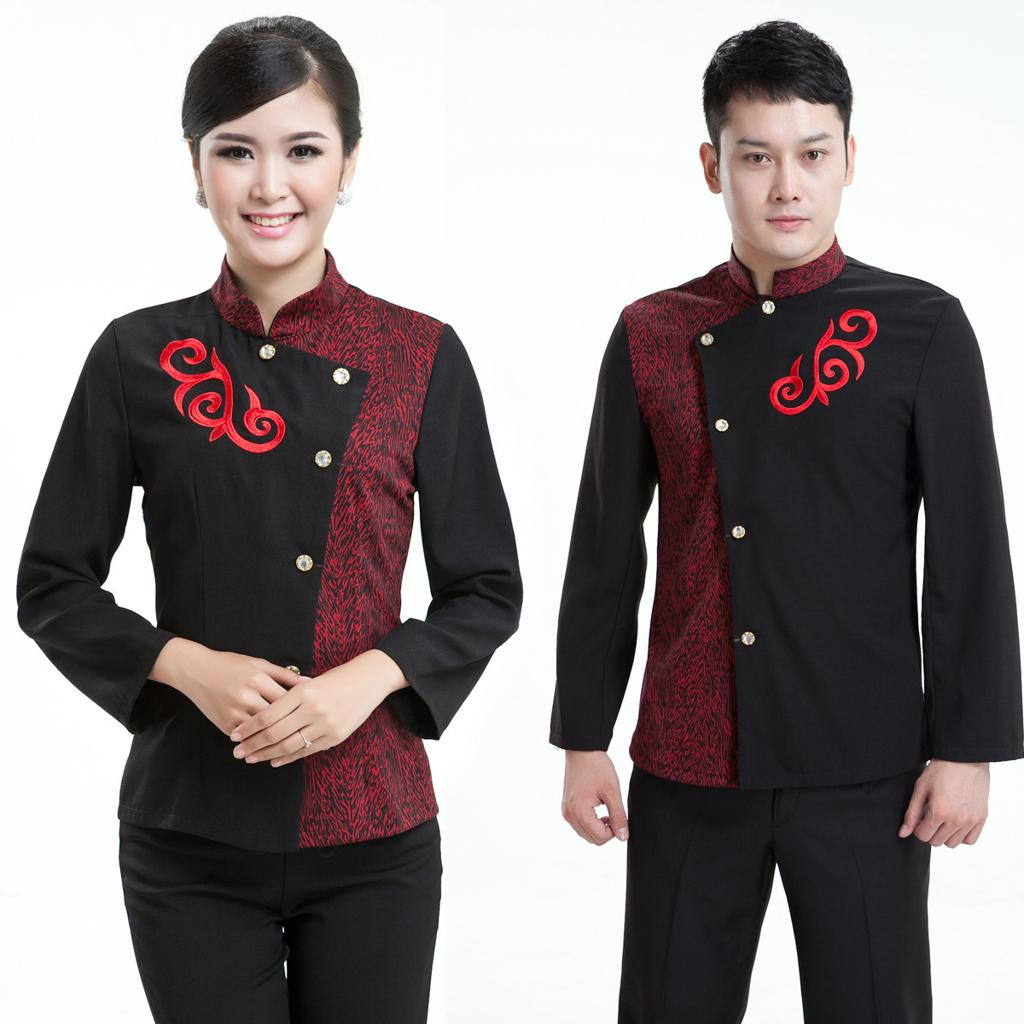face: (206, 74, 340, 260), (720, 80, 842, 256)
